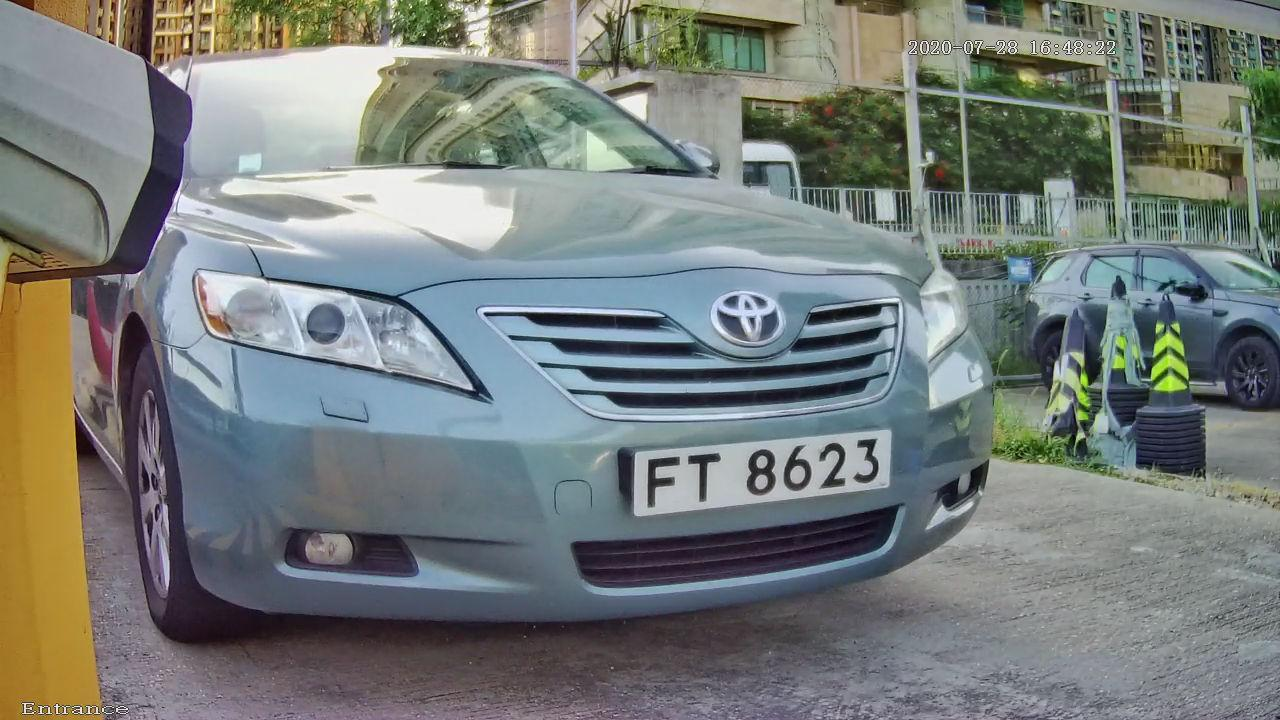privatecar: (41, 10, 1149, 663)
